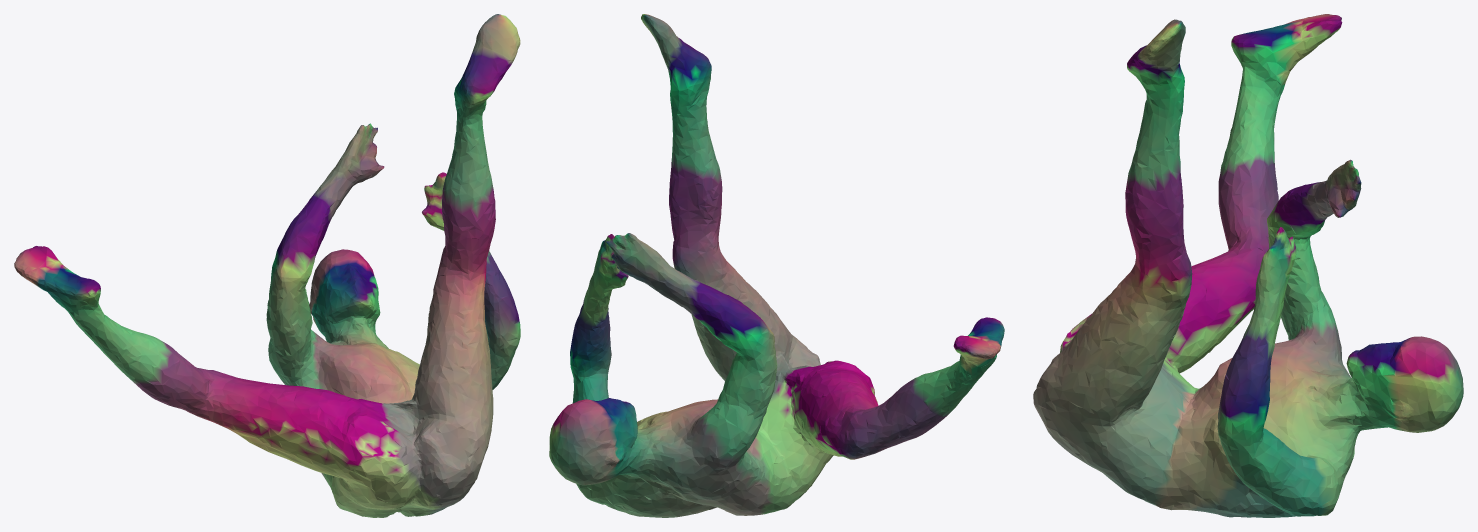
Rendered from man-18.off.obj.
3 renders of one model, left to right at view 1: azimuth 30°, elevation 25°; view 2: azimuth 150°, elevation 25°; view 3: azimuth 270°, elevation 25°, orthographic. The views are drawn at different scales.
Size of the model in its own units: 1.24 by 1.21 by 0.8971.
